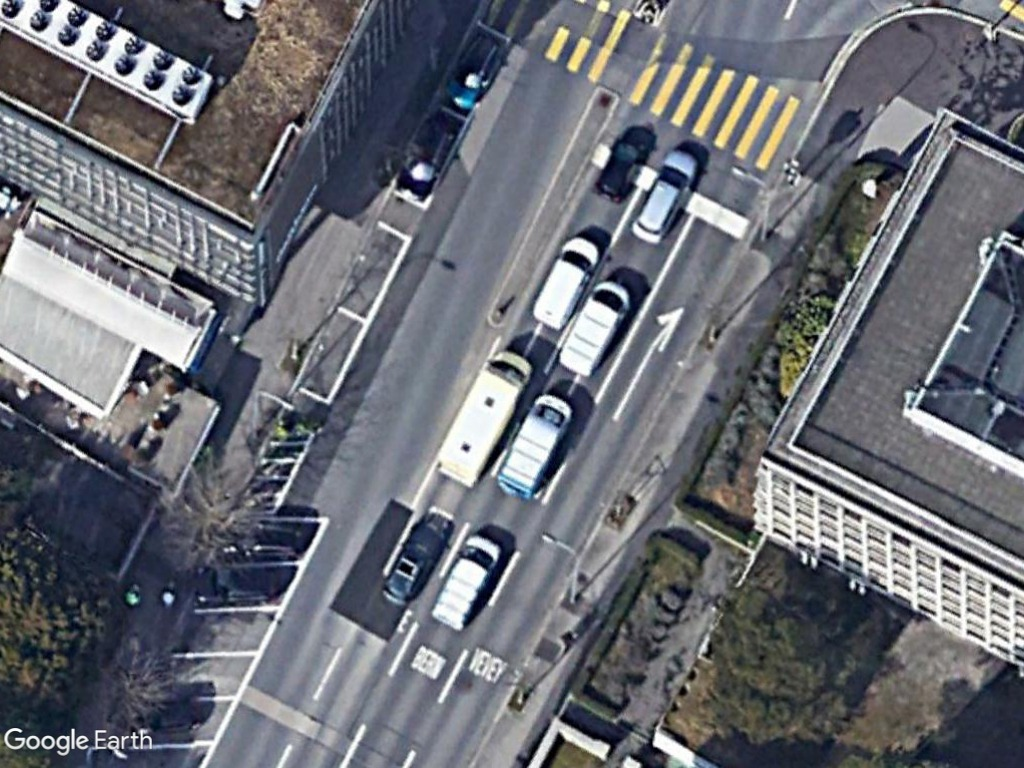car: (630, 148, 702, 245)
van: (429, 347, 534, 489), (493, 393, 576, 496), (556, 278, 632, 380), (527, 233, 603, 330), (433, 532, 504, 631)
